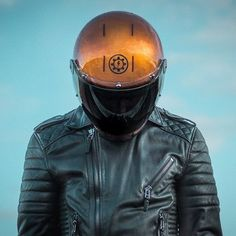helmet: (73, 16, 164, 116)
